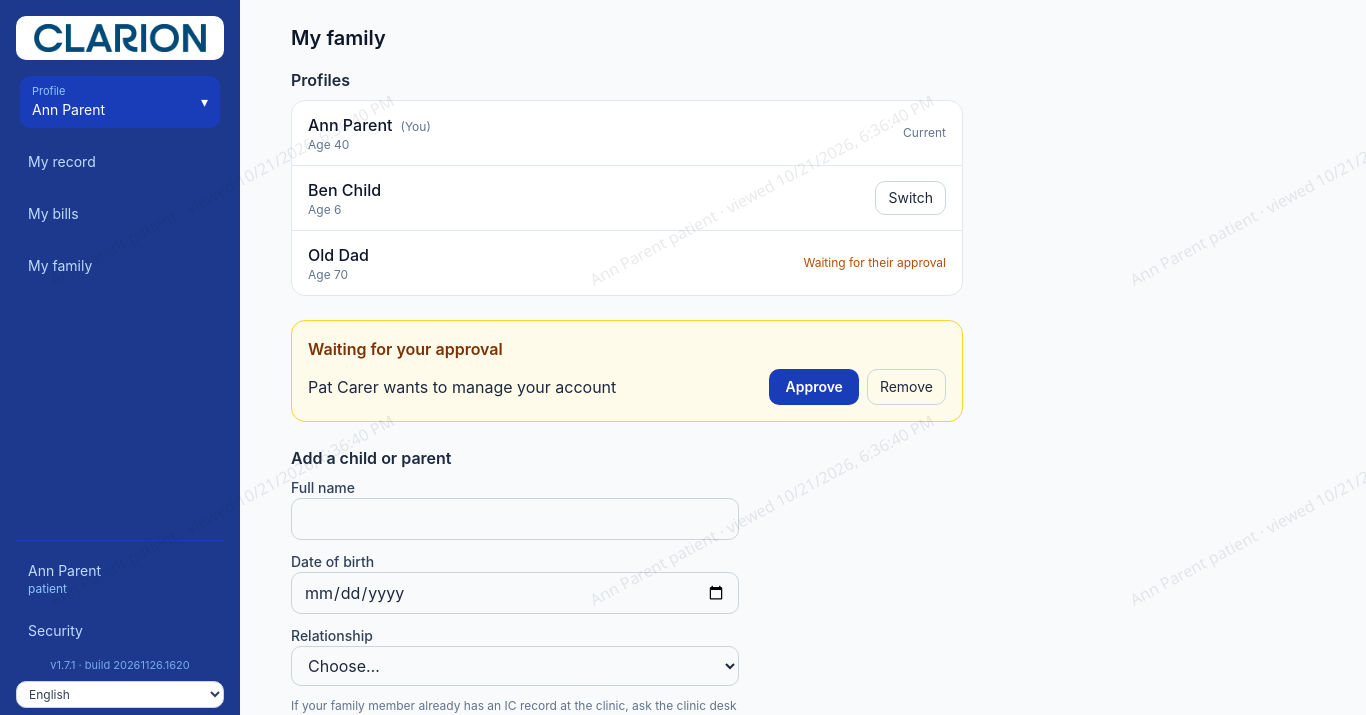
Test: Family page › approves a carer who is waiting for approval
The image size is (1366, 715).
Expected: the text "Pat Carer wants to manage your account" is shown, left=308, top=375, right=616, bottom=399
Click the button "Approve" at (814,387), box left=770, top=369, right=859, bottom=405
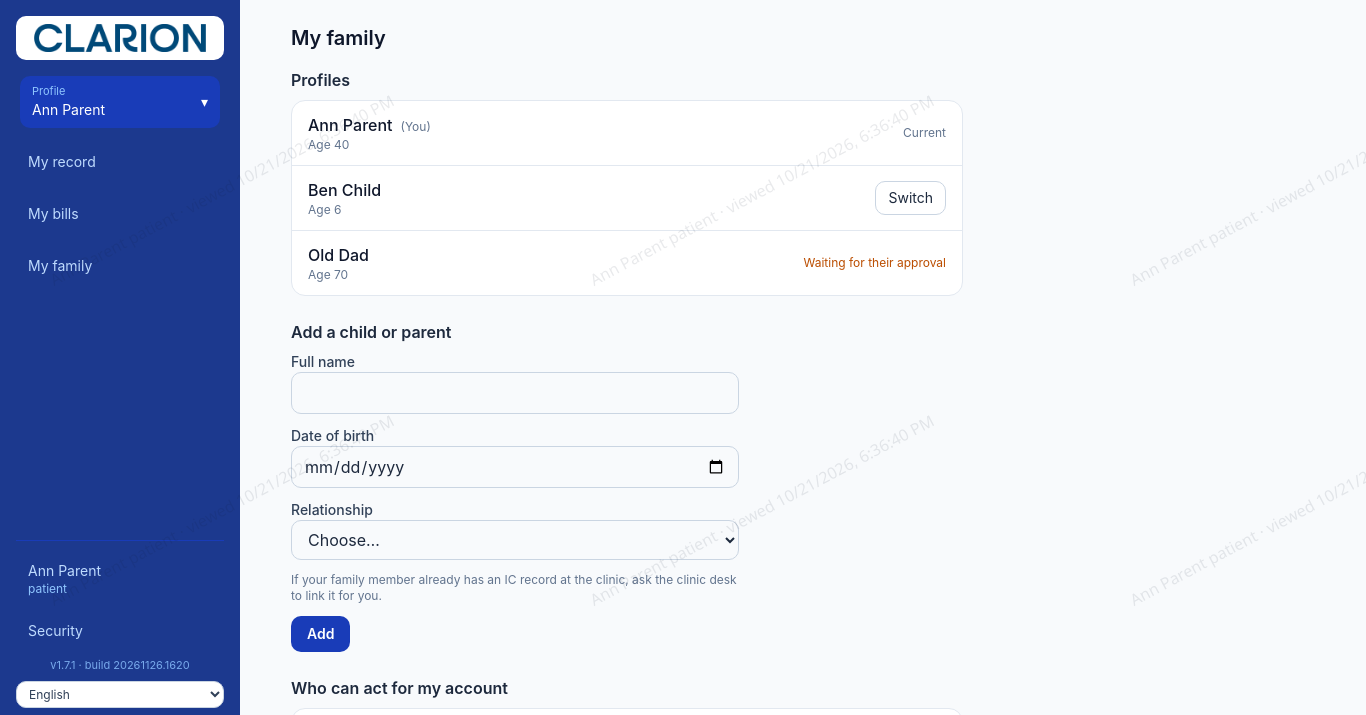
Expected: the text "wants to manage" is gone
